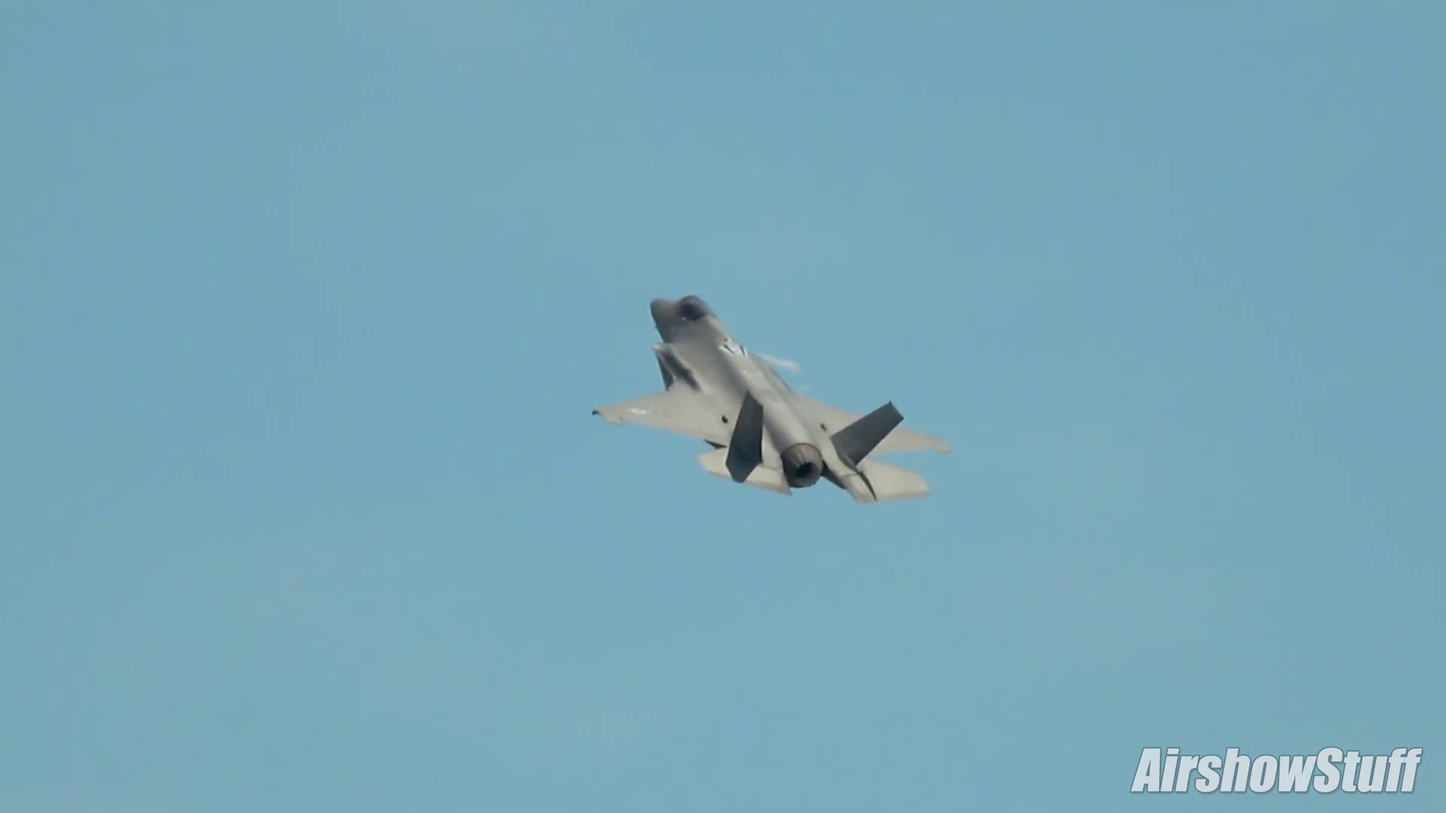F35: (587, 280, 962, 514)
